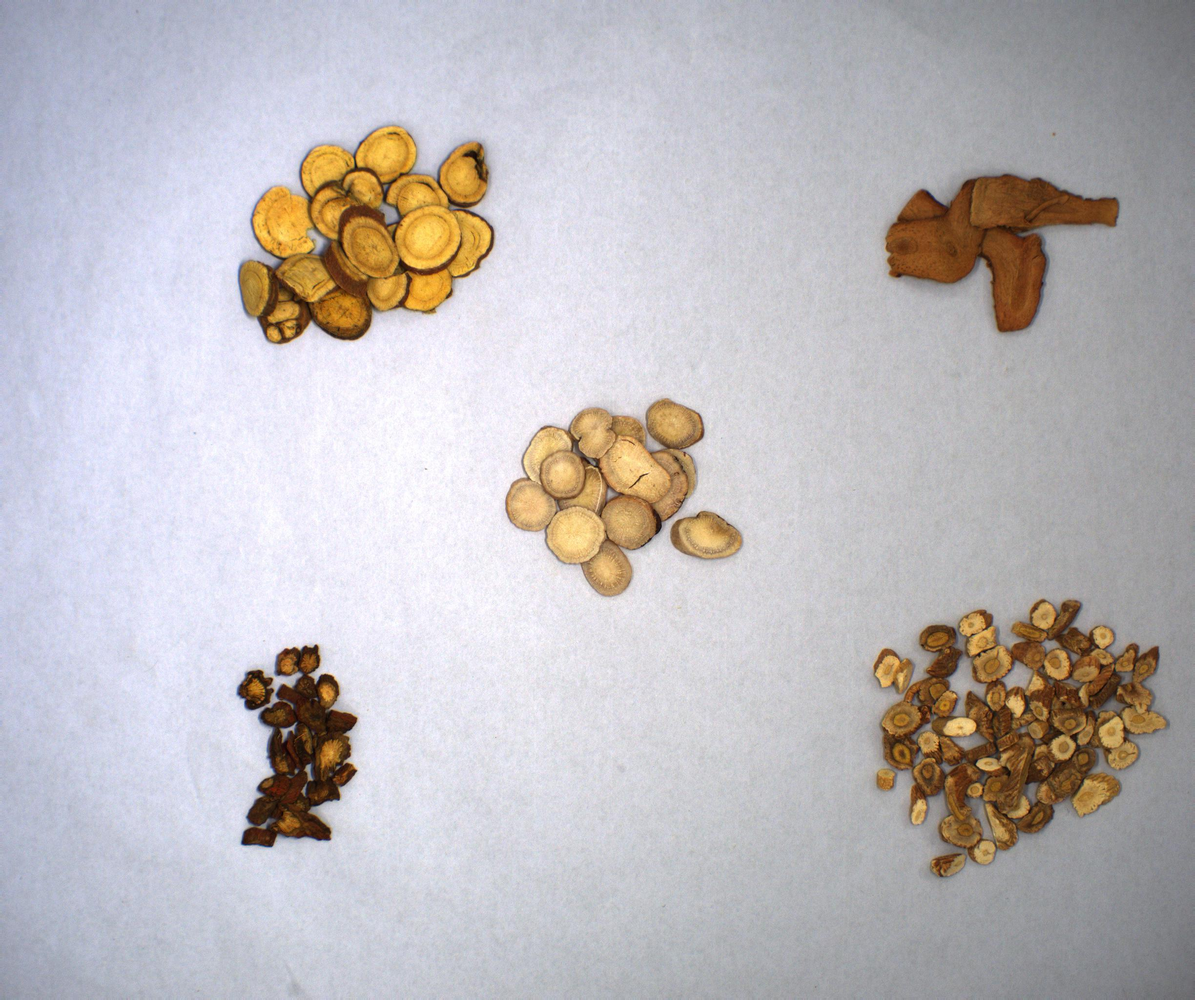baishao: (478, 369, 761, 627)
banlangen: (854, 557, 1172, 907)
danshen: (168, 611, 436, 906)
gancaopian: (192, 105, 531, 354)
gaoliangjiang: (856, 150, 1165, 368)
